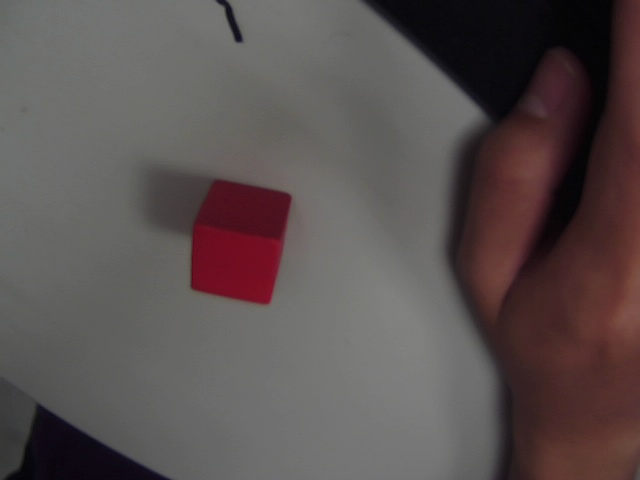redbox: (169, 169, 313, 315)
